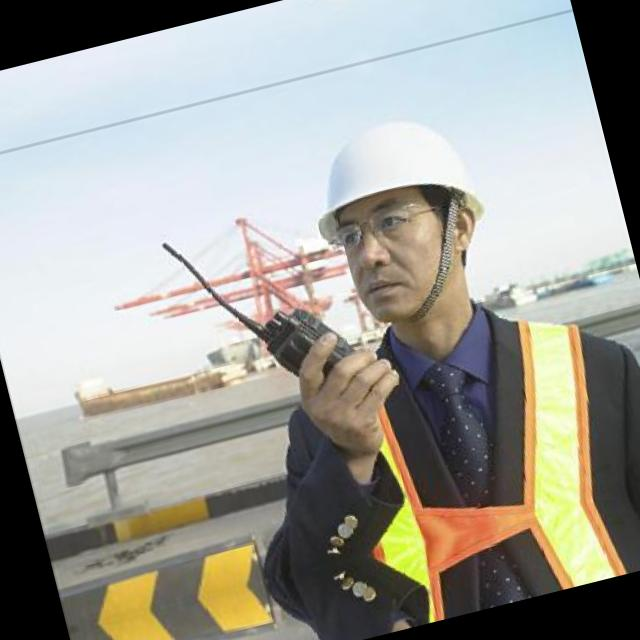helmet: (262, 68, 534, 370)
